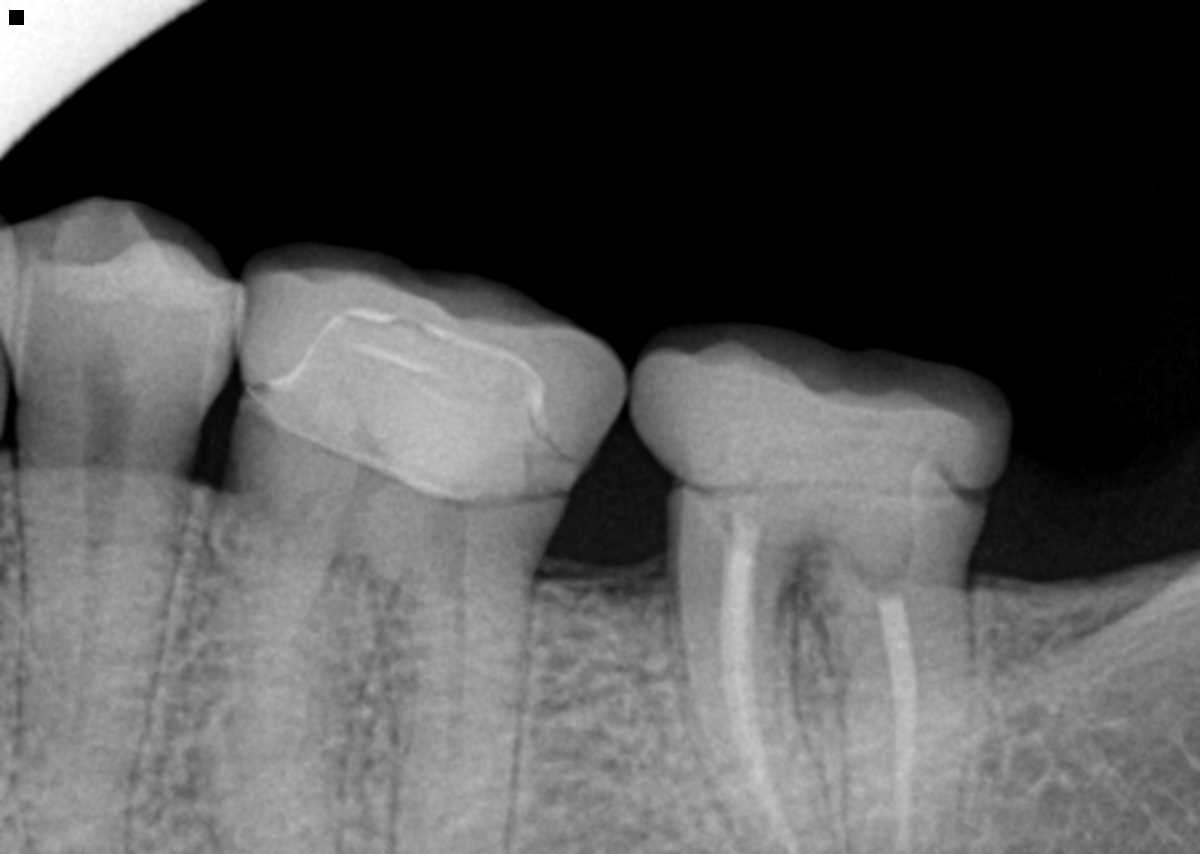Distal Canal: (430, 567, 466, 782)
Distal Root: (367, 485, 558, 854), (816, 496, 992, 854)
Main Canal: (67, 488, 123, 799)
Main Root: (10, 456, 193, 854)
Mesial Root: (212, 470, 367, 854), (672, 497, 835, 854)
Root Canal Filling: (722, 550, 801, 850), (876, 591, 919, 846)
